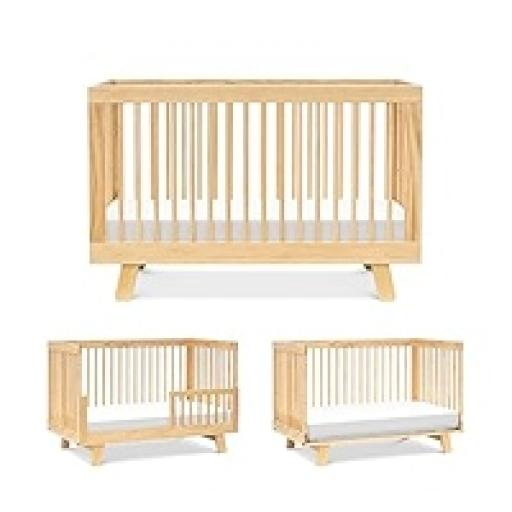crib: (90, 80, 422, 299), (274, 341, 463, 465), (49, 341, 238, 463)
